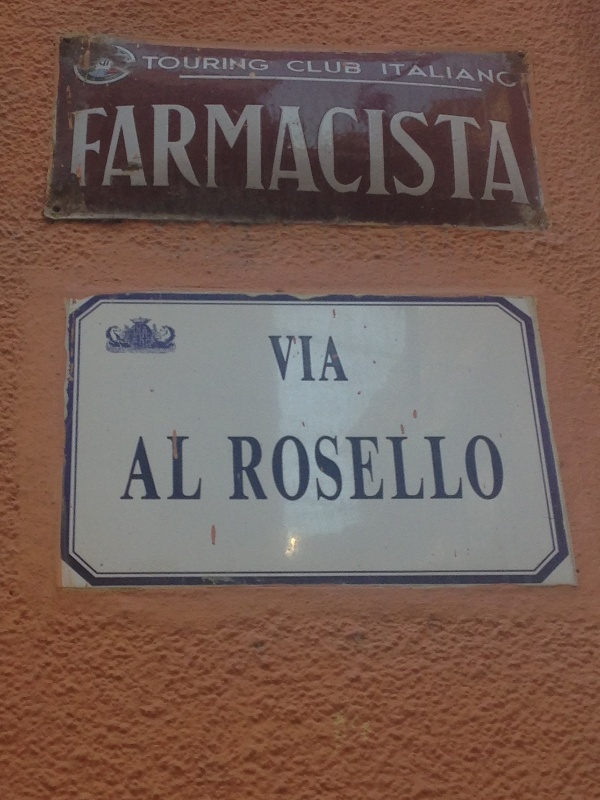text: (81, 105, 96, 207), (97, 105, 112, 207), (113, 105, 128, 207), (129, 105, 144, 207), (145, 105, 160, 207), (161, 105, 176, 207), (177, 105, 192, 207), (193, 105, 208, 207), (209, 105, 224, 207), (225, 105, 240, 207), (241, 105, 256, 207), (257, 105, 272, 207), (273, 105, 288, 207), (289, 105, 304, 207), (305, 105, 320, 207), (321, 105, 336, 207), (337, 105, 352, 207), (353, 105, 368, 207), (369, 105, 384, 207), (385, 105, 400, 207), (401, 105, 416, 207), (417, 105, 432, 207), (433, 105, 448, 207), (449, 105, 464, 207), (465, 105, 480, 207), (481, 105, 496, 207), (497, 105, 512, 207), (513, 105, 528, 207), (145, 432, 160, 503), (161, 432, 176, 503), (177, 432, 192, 503), (241, 435, 256, 501), (257, 435, 272, 501), (273, 435, 288, 501), (289, 435, 304, 501), (305, 435, 320, 501), (321, 435, 336, 501), (337, 435, 352, 501), (353, 435, 368, 501), (369, 435, 384, 501), (385, 435, 400, 501), (401, 435, 416, 501), (417, 435, 432, 501), (433, 435, 448, 501), (449, 435, 464, 501), (465, 435, 480, 501), (481, 435, 496, 501), (227, 435, 240, 501), (273, 334, 288, 383), (289, 334, 304, 383), (305, 334, 320, 383), (321, 334, 336, 383), (193, 432, 203, 503), (337, 334, 350, 383), (74, 105, 80, 207), (497, 435, 505, 501), (529, 105, 533, 207), (385, 61, 400, 88), (401, 61, 416, 88), (417, 61, 432, 88), (433, 61, 448, 88), (449, 61, 464, 88), (465, 61, 480, 88), (481, 61, 496, 88), (497, 61, 512, 88), (139, 432, 144, 503), (267, 334, 272, 383), (289, 61, 304, 75), (305, 61, 320, 75), (321, 61, 336, 75), (337, 61, 352, 75), (145, 57, 160, 71), (161, 57, 176, 71), (177, 57, 192, 71), (193, 57, 208, 71), (209, 57, 224, 71), (225, 57, 240, 71), (241, 57, 256, 71), (257, 57, 268, 71), (353, 61, 362, 75), (513, 61, 517, 88), (382, 61, 384, 88), (142, 57, 144, 71), (287, 61, 288, 75)
